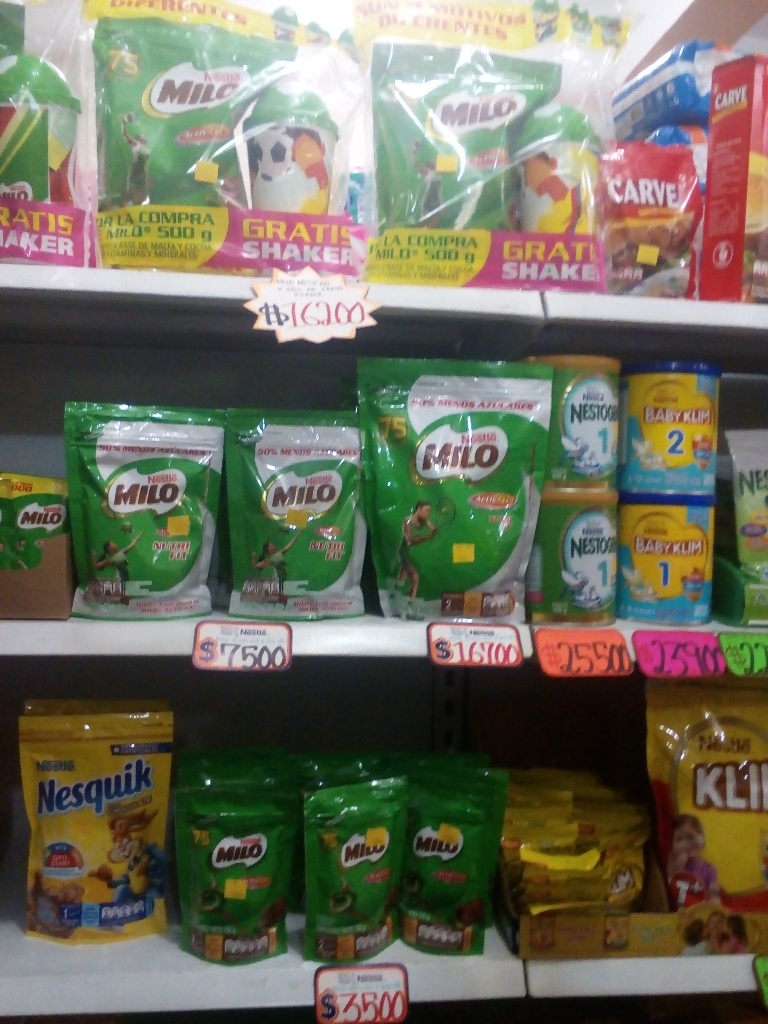COL0170203DYP10000: (176, 788, 300, 966)
COL0170203DYP50000: (91, 3, 240, 272)
COL0170205DYP20000: (220, 408, 369, 626)
COL0170205DYP50000: (361, 354, 553, 630)
COL0170303DYP20000: (20, 697, 173, 952)
